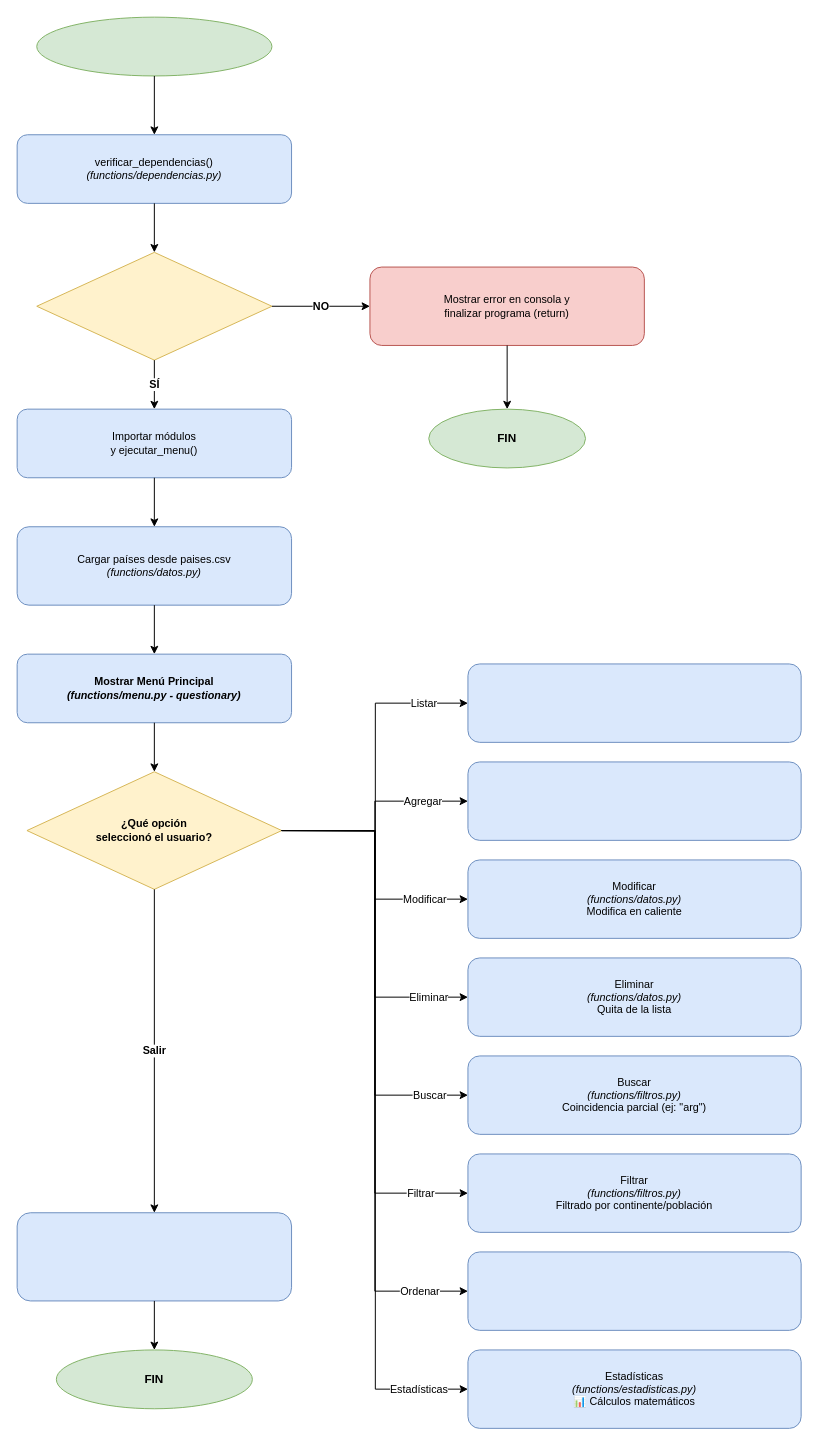
Some shapes in this 818 by 1446 pixel diagram are drawn without their labels. The centre of each missing label's shape, as x and y in pixels:
"Agregar (functions/datos.py) Pide datos y valida" goes at pixel 634 800.
"Guardar cambios de la lista en paises.csv (functions/datos.py - reescribe CSV)" goes at pixel 154 1256.
"INICIO: python main.py" goes at pixel 154 46.
"Listar (functions/estilos.py) Muestra tabla con Rich" goes at pixel 634 702.
"Ordenar (functions/ordenamientos.py) ⚙️ Ordena la lista" goes at pixel 634 1290.
"¿Están instaladas?" goes at pixel 154 305.
